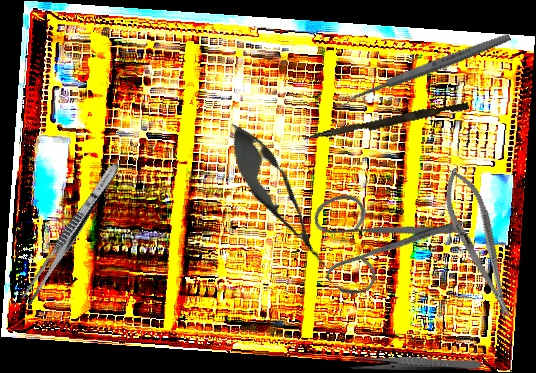Dressing Forceps: (18, 159, 124, 308), (349, 357, 481, 370)
Iris Scissors: (286, 140, 476, 329)
Micro Scissor: (213, 112, 344, 282)
Needle Holder: (433, 162, 525, 325)
Pusher: (302, 98, 470, 147)
Surgical Spoon: (334, 31, 512, 109)
